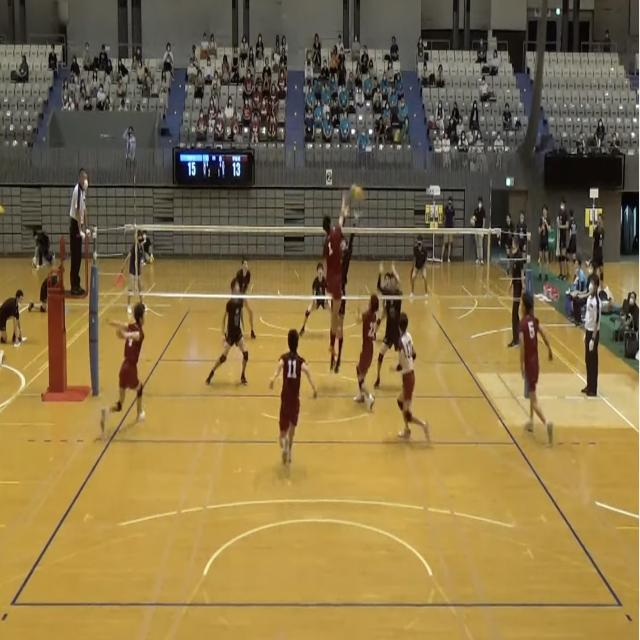spike: (321, 180, 356, 363)
